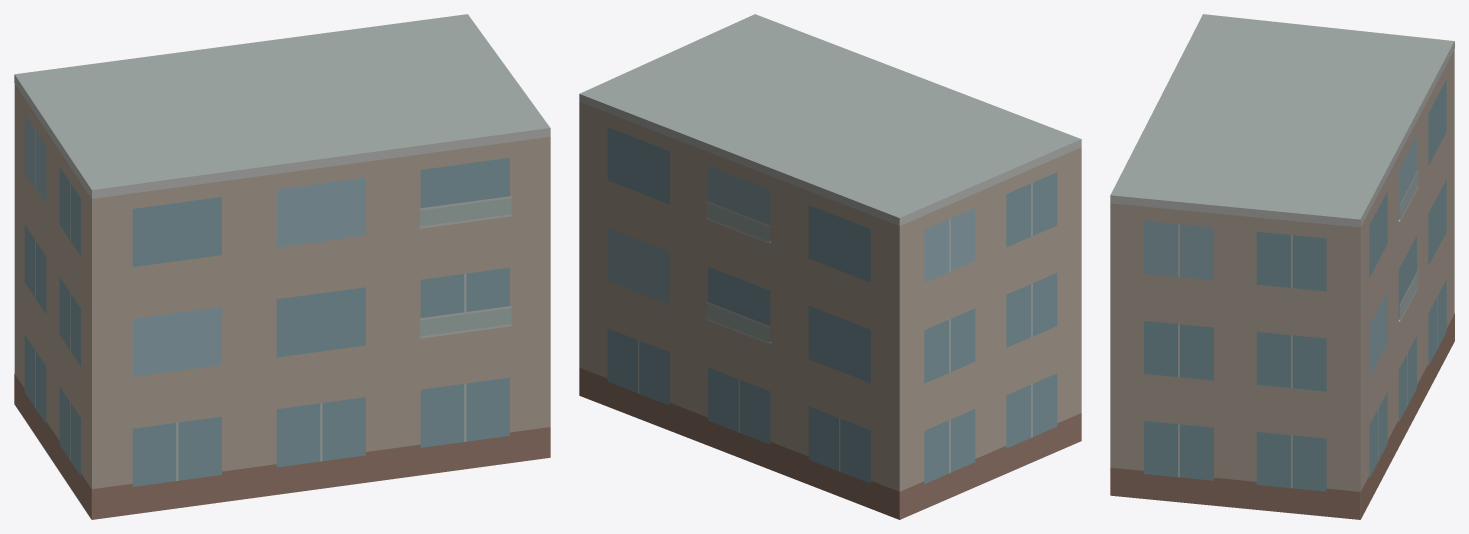
Rendered from survey-upis-32541046.glb.
3 views of the same model, side by side, from view 1: azimuth 30°, elevation 25°; view 2: azimuth 150°, elevation 25°; view 3: azimuth 270°, elevation 25° (orthographic). The views are drawn at different scales.
Visible parts, largest first — view 1: survey-upis-32541046.tmp; view 2: survey-upis-32541046.tmp; view 3: survey-upis-32541046.tmp.
Boxes of the visible parts, left/top/right/bottom form: survey-upis-32541046.tmp: left=14, top=14, right=550, bottom=519; survey-upis-32541046.tmp: left=579, top=14, right=1081, bottom=519; survey-upis-32541046.tmp: left=1110, top=14, right=1454, bottom=519.
Size of the model in its own units: 13.44 by 9.15 by 9.52.
